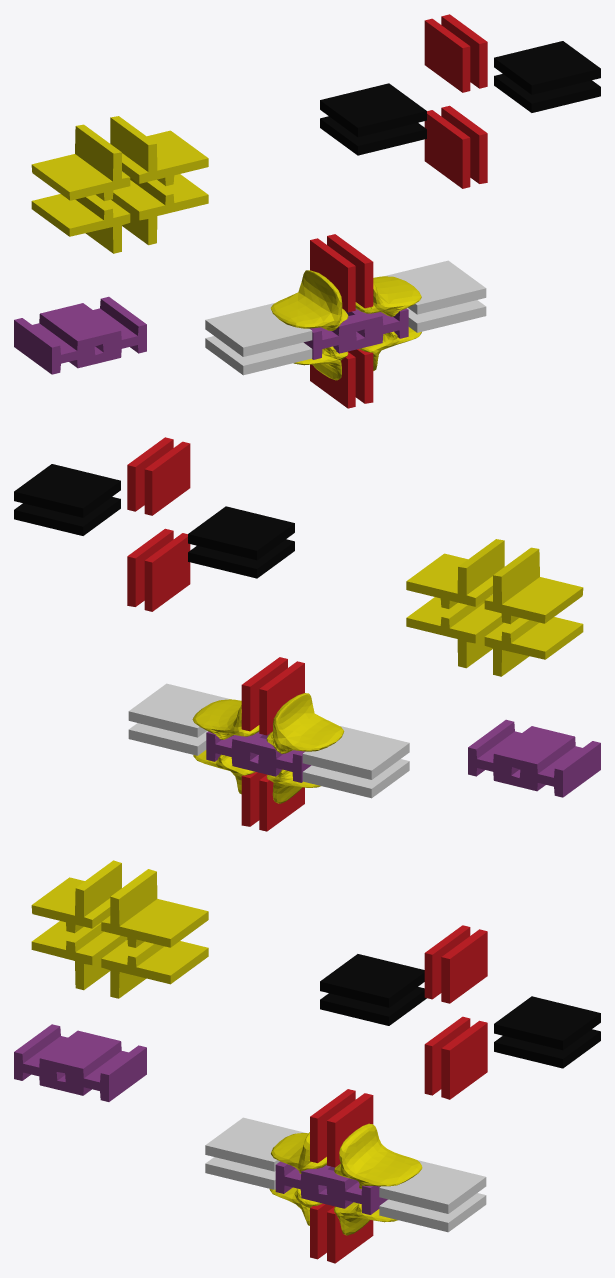
The model's file is qbt_v3_big.obj.
3 views of the same model, one above another, from view 1: azimuth 30°, elevation 25°; view 2: azimuth 150°, elevation 25°; view 3: azimuth 330°, elevation 25° (orthographic).
Visible parts, largest first — view 1: Object.22, Object.26, Object.25, Object.20, Object.21, Object.23, Object.24, Object.7, Object.13, Object.8, Object.9, Object.15 (+14 smaller); view 2: Object.22, Object.26, Object.25, Object.20, Object.21, Object.23, Object.24, Object.7, Object.13, Object.8, Object.9, Object.15 (+14 smaller); view 3: Object.22, Object.25, Object.23, Object.21, Object.20, Object.26, Object.12, Object.8, Object.24, Object.9, Object.7, Object.14 (+14 smaller).
Part boxes in pixels (box(x1,y1,x2,y2)): Object.22: box(14, 296, 146, 374); Object.26: box(31, 124, 130, 201); Object.25: box(110, 116, 208, 185); Object.20: box(320, 83, 426, 137); Object.21: box(494, 41, 600, 94); Object.23: box(111, 174, 208, 245); Object.24: box(31, 194, 130, 253); Object.7: box(205, 303, 312, 356); Object.13: box(270, 270, 348, 330); Object.8: box(384, 260, 486, 314); Object.9: box(303, 308, 408, 359); Object.15: box(424, 110, 470, 188); Object.22: box(468, 719, 600, 797); Object.26: box(484, 547, 583, 624); Object.25: box(406, 539, 504, 608); Object.20: box(188, 506, 294, 560); Object.21: box(14, 464, 120, 517); Object.23: box(406, 597, 503, 668); Object.24: box(484, 617, 583, 676); Object.7: box(302, 726, 409, 779); Object.13: box(266, 693, 344, 753); Object.8: box(128, 683, 230, 737); Object.9: box(206, 731, 311, 782); Object.15: box(144, 533, 190, 611); Object.22: box(14, 1024, 146, 1101); Object.25: box(101, 869, 208, 947); Object.23: box(101, 940, 208, 998); Object.21: box(494, 996, 600, 1050); Object.20: box(320, 954, 424, 1007); Object.26: box(31, 860, 121, 933); Object.12: box(334, 1123, 422, 1188); Object.8: box(379, 1160, 486, 1213); Object.24: box(31, 921, 127, 990); Object.9: box(275, 1161, 387, 1214); Object.7: box(205, 1117, 305, 1171); Object.14: box(441, 1020, 487, 1099).
Size of the model in its own units: 216 by 125 by 25.81.
